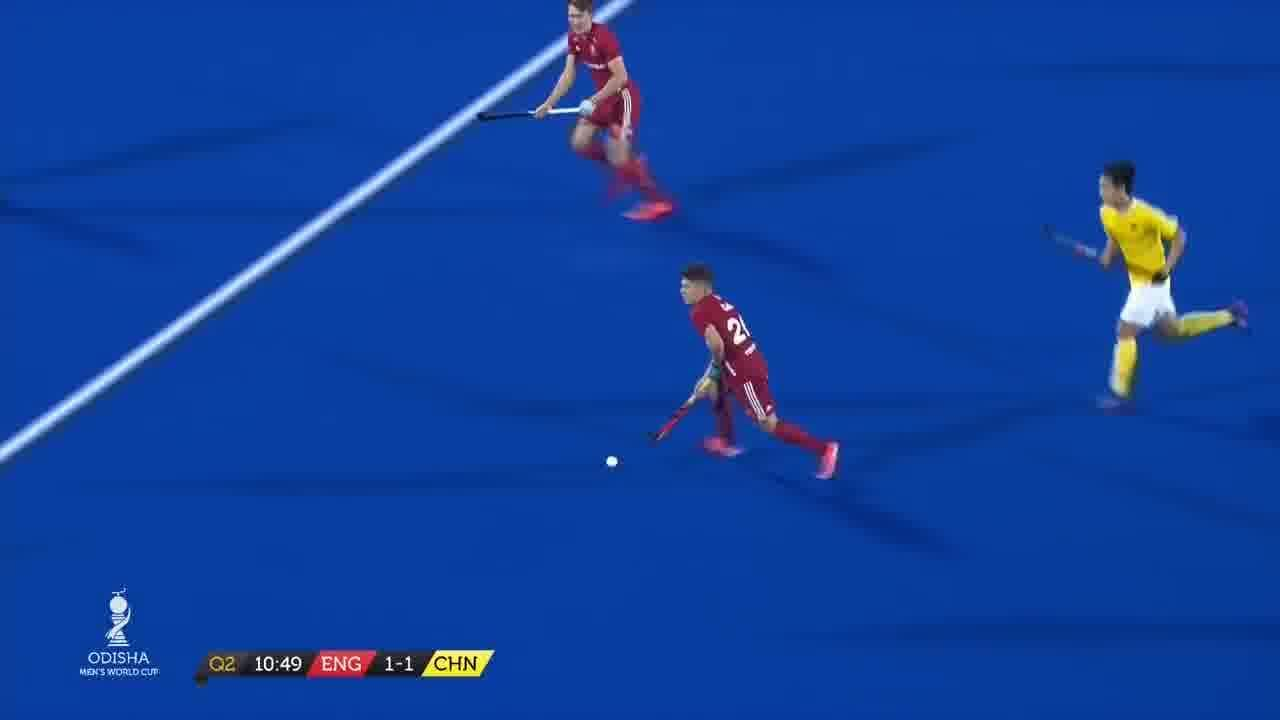ball: (600, 448, 628, 479)
